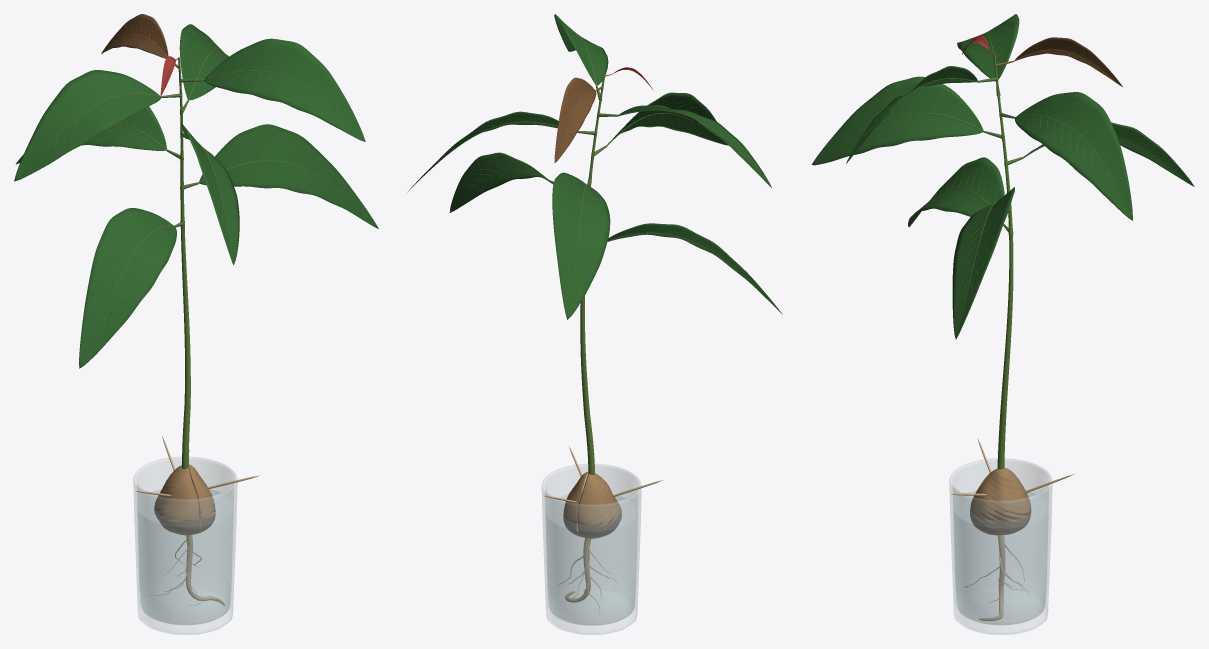
The model's file is tree.glb.
The picture shows the model from 3 angles, left to right: view 1: azimuth 30°, elevation 25°; view 2: azimuth 150°, elevation 25°; view 3: azimuth 270°, elevation 25°; orthographic projection. The views are drawn at different scales.
Visible parts, largest first — view 1: Стакан · венчик и гранёное дно, Вода, Лист · пластинка, Лист · пластинка.006, Лист · пластинка.001, Лист · пластинка.005, Лист · пластинка.003, Лист · пластинка.004, Стебель, Лист · пластинка.002, Семядоля, Лист · пластинка.007 (+2 smaller); view 2: Стакан · венчик и гранёное дно, Вода, Лист · пластинка.002, Лист · пластинка.001, Лист · пластинка.003, Лист · пластинка.007, Лист · пластинка, Семядоля, Стебель, Лист · пластинка.006, Лист · пластинка.005, Лист · пластинка.004 (+2 smaller); view 3: Стакан · венчик и гранёное дно, Вода, Лист · пластинка.004, Лист · пластинка.003, Лист · пластинка.001, Лист · пластинка, Семядоля.001, Стебель, Лист · пластинка.005, Лист · пластинка.002, Лист · пластинка.007, Лист · пластинка.006 (+2 smaller).
Boxes of the visible parts, x1,y1,x2,y2 form: Стакан · венчик и гранёное дно: (133, 457, 237, 634); Вода: (137, 489, 233, 624); Лист · пластинка: (79, 208, 176, 368); Лист · пластинка.006: (204, 38, 365, 141); Лист · пластинка.001: (199, 124, 378, 228); Лист · пластинка.005: (14, 70, 161, 181); Лист · пластинка.003: (181, 123, 239, 264); Лист · пластинка.004: (179, 24, 228, 100); Стебель: (178, 57, 190, 469); Лист · пластинка.002: (16, 106, 166, 164); Семядоля: (154, 465, 199, 521); Лист · пластинка.007: (101, 14, 168, 58); Стакан · венчик и гранёное дно: (542, 464, 641, 634); Вода: (546, 494, 637, 625); Лист · пластинка.002: (552, 172, 610, 319); Лист · пластинка.001: (449, 152, 553, 212); Лист · пластинка.003: (608, 92, 728, 145); Лист · пластинка.007: (554, 77, 596, 162); Лист · пластинка: (608, 223, 782, 314); Семядоля: (578, 473, 621, 525); Стебель: (580, 76, 604, 475); Лист · пластинка.006: (554, 14, 608, 85); Лист · пластинка.005: (619, 105, 771, 187); Лист · пластинка.004: (407, 111, 558, 192); Стакан · венчик и гранёное дно: (949, 458, 1052, 634); Вода: (953, 490, 1048, 624); Лист · пластинка.004: (1015, 92, 1132, 220); Лист · пластинка.003: (811, 76, 983, 165); Лист · пластинка.001: (952, 187, 1014, 339); Лист · пластинка: (908, 157, 1004, 227); Семядоля.001: (970, 468, 1030, 523); Стебель: (993, 53, 1013, 469); Лист · пластинка.005: (957, 14, 1019, 81); Лист · пластинка.002: (1024, 122, 1194, 186); Лист · пластинка.007: (1014, 37, 1122, 87); Лист · пластинка.006: (846, 66, 977, 163).
Size of the model in its own units: 0.2905 by 0.4627 by 0.2777.
